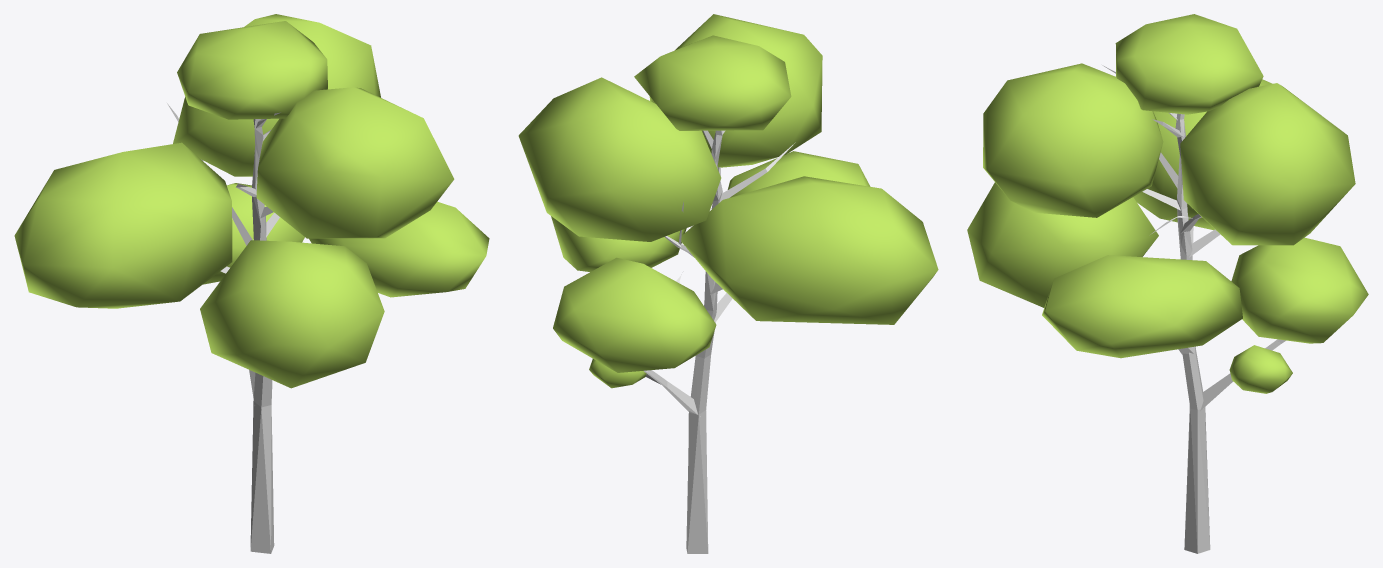
Rendered from tree.fbx.
The picture shows the model from 3 angles, left to right: view 1: azimuth 30°, elevation 25°; view 2: azimuth 150°, elevation 25°; view 3: azimuth 270°, elevation 25°; orthographic projection. The views are drawn at different scales.
Visible parts, largest first — view 1: Bush01.002, Bush01.001, Bush01, Bush01.003, Bush02.001, Bush02, Tree.Birch.003, Bush03; view 2: Bush01.002, Bush02, Bush03, Bush01.003, Bush01.001, Tree.Birch.003, Bush02.001, Bush01, Bush03.001; view 3: Bush01.001, Bush02, Bush02.001, Bush01, Bush01.003, Bush03, Tree.Birch.003, Bush01.002, Bush03.001.
Part boxes in pixels (left/top/right/bottom): Bush01.002: left=14, top=142, right=232, bottom=308; Bush01.001: left=256, top=87, right=454, bottom=238; Bush01: left=200, top=240, right=384, bottom=388; Bush01.003: left=177, top=21, right=327, bottom=119; Bush02.001: left=309, top=201, right=489, bottom=297; Bush02: left=173, top=14, right=380, bottom=176; Tree.Birch.003: left=167, top=103, right=280, bottom=553; Bush03: left=203, top=183, right=304, bottom=284; Bush01.002: left=679, top=176, right=938, bottom=324; Bush02: left=518, top=77, right=721, bottom=241; Bush03: left=553, top=257, right=716, bottom=372; Bush01.003: left=634, top=35, right=791, bottom=130; Bush01.001: left=649, top=14, right=822, bottom=167; Tree.Birch.003: left=644, top=130, right=795, bottom=553; Bush02.001: left=551, top=216, right=686, bottom=271; Bush01: left=727, top=151, right=870, bottom=197; Bush03.001: left=589, top=359, right=647, bottom=388; Bush01.001: left=983, top=63, right=1163, bottom=217; Bush02: left=1180, top=83, right=1355, bottom=245; Bush02.001: left=1042, top=255, right=1242, bottom=358; Bush01: left=967, top=182, right=1158, bottom=307; Bush01.003: left=1115, top=14, right=1263, bottom=114; Bush03: left=1231, top=237, right=1368, bottom=343; Tree.Birch.003: left=1102, top=65, right=1285, bottom=553; Bush01.002: left=1133, top=79, right=1272, bottom=230; Bush03.001: left=1229, top=345, right=1292, bottom=393.
Size of the model in its own units: 236 by 278 by 196.
